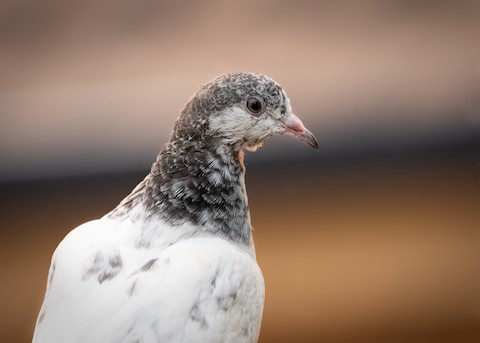pigeon: (34, 67, 320, 332)
